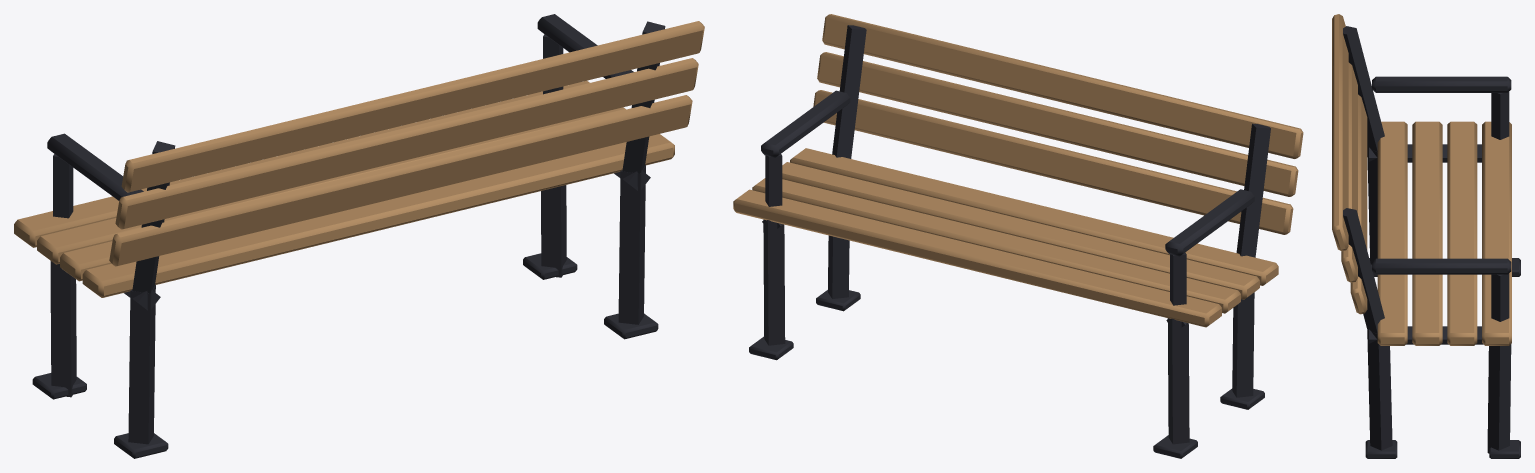
The model's file is bench_park.glb.
The picture shows the model from 3 angles, left to right: view 1: azimuth 30°, elevation 25°; view 2: azimuth 150°, elevation 25°; view 3: azimuth 270°, elevation 25°; orthographic projection. The views are drawn at different scales.
Parts seen in each view (by area): view 1: body; view 2: body; view 3: body.
Part boxes in pixels (x1,y1,x2,y2): body: (14, 14, 704, 458); body: (733, 14, 1303, 458); body: (1332, 14, 1520, 458).
Size of the model in its own units: 1.6 by 0.8482 by 0.5963.
